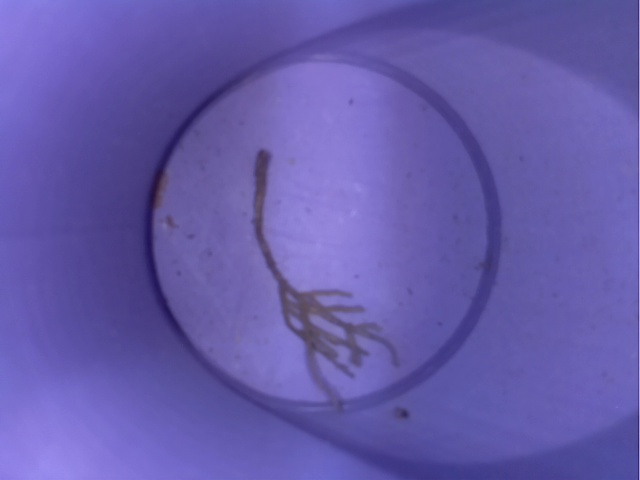ecorce: (226, 136, 430, 422)
